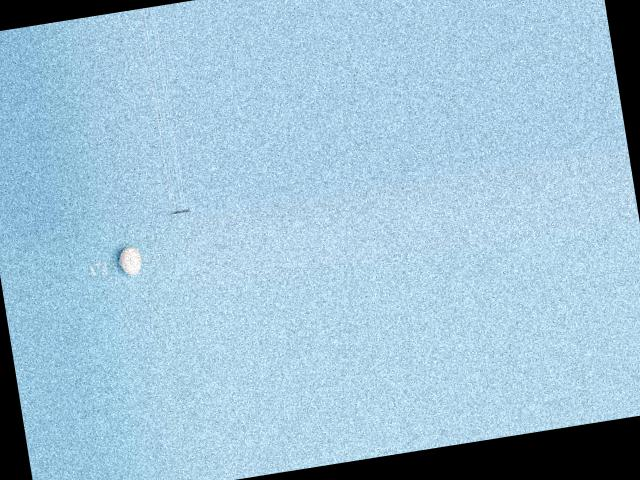egg: (118, 245, 143, 275)
